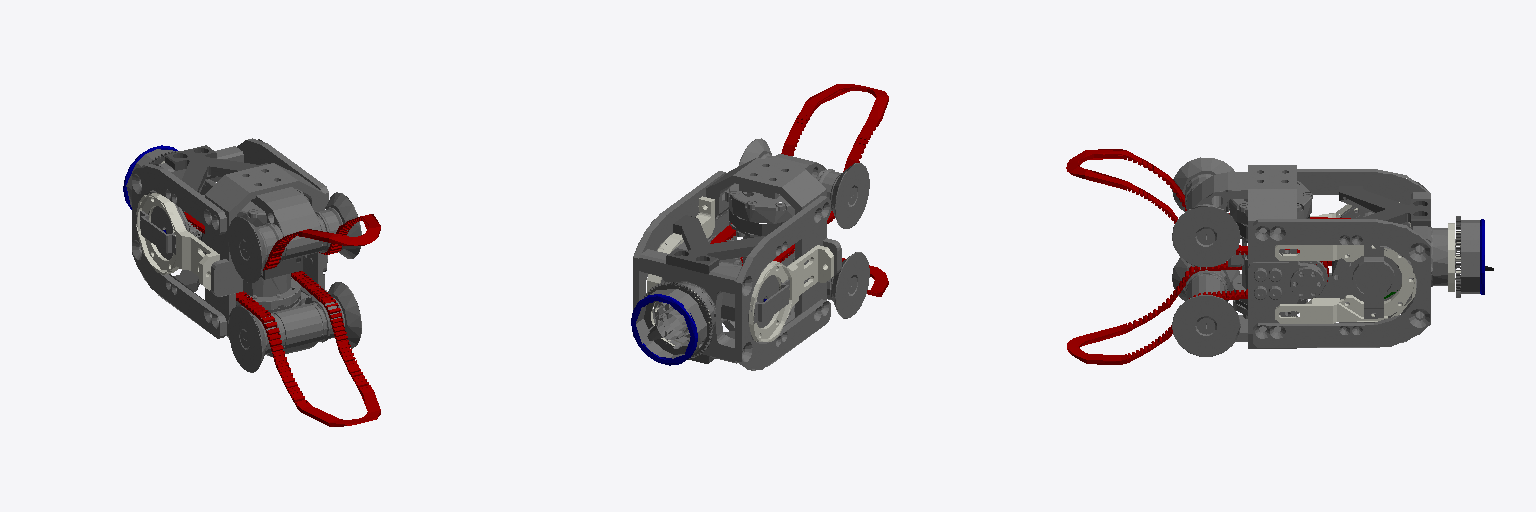
3 views of the same model, side by side, from view 1: azimuth 30°, elevation 25°; view 2: azimuth 150°, elevation 25°; view 3: azimuth 270°, elevation 25° (orthographic).
Bounding box in the file's own units: 0.056 × 0.0847 × 0.1737.
Materials: 1 (1 with a texture image).